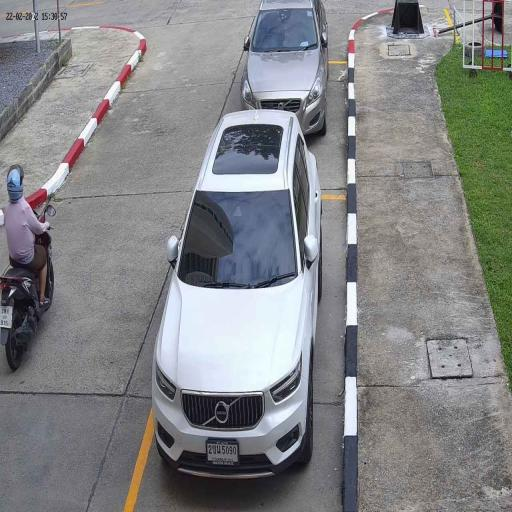car: (150, 111, 324, 486), (240, 0, 330, 135)
motorcycle: (0, 262, 56, 372)
